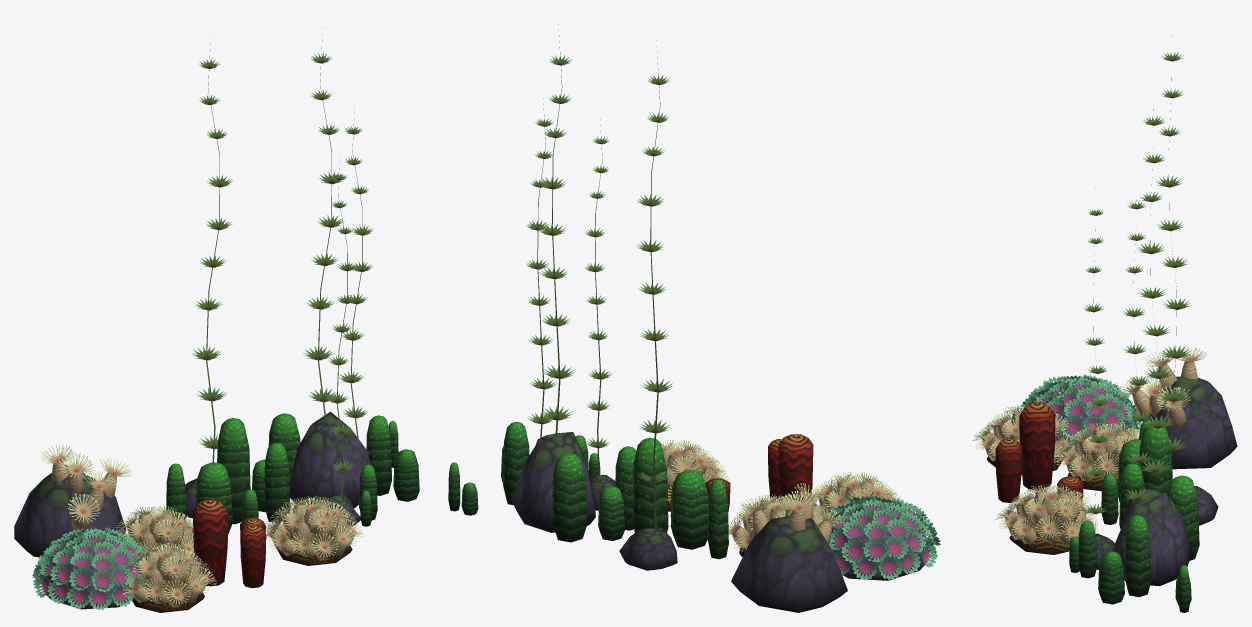
Rendered from CoralSet_09.FBX.
The picture shows the model from 3 angles, left to right: view 1: azimuth 30°, elevation 25°; view 2: azimuth 150°, elevation 25°; view 3: azimuth 270°, elevation 25°; orthographic projection. The views are drawn at different scales.
Visible parts, largest first — view 1: Set_09, Set_09_Part06, Set_09_Part25 (×2), Set_09_Part30, Set_09_Part29, Set_09_Part07; view 2: Set_09, Set_09_Part25 (×2), Set_09_Part06, Set_09_Part30, Set_09_Part29, Set_09_Part07; view 3: Set_09, Set_09_Part06, Set_09_Part25 (×2), Set_09_Part30, Set_09_Part29, Set_09_Part07.
Part boxes in pixels (x1,y1,x2,y2): Set_09: [14, 411, 419, 612]; Set_09_Part06: [41, 444, 364, 607]; Set_09_Part25 (×2): [32, 105, 373, 610]; Set_09_Part30: [191, 30, 233, 461]; Set_09_Part29: [303, 21, 344, 418]; Set_09_Part07: [326, 155, 356, 497]; Set_09: [448, 421, 847, 612]; Set_09_Part25 (×2): [526, 98, 940, 580]; Set_09_Part06: [659, 439, 901, 552]; Set_09_Part30: [637, 40, 672, 527]; Set_09_Part29: [538, 24, 574, 437]; Set_09_Part07: [585, 119, 611, 475]; Set_09: [986, 376, 1237, 612]; Set_09_Part06: [972, 346, 1206, 547]; Set_09_Part25 (×2): [1020, 199, 1152, 537]; Set_09_Part30: [1156, 35, 1191, 451]; Set_09_Part29: [1137, 109, 1173, 490]; Set_09_Part07: [1083, 187, 1109, 531].
Size of the model in its own units: 63.2 by 72.95 by 34.93.
